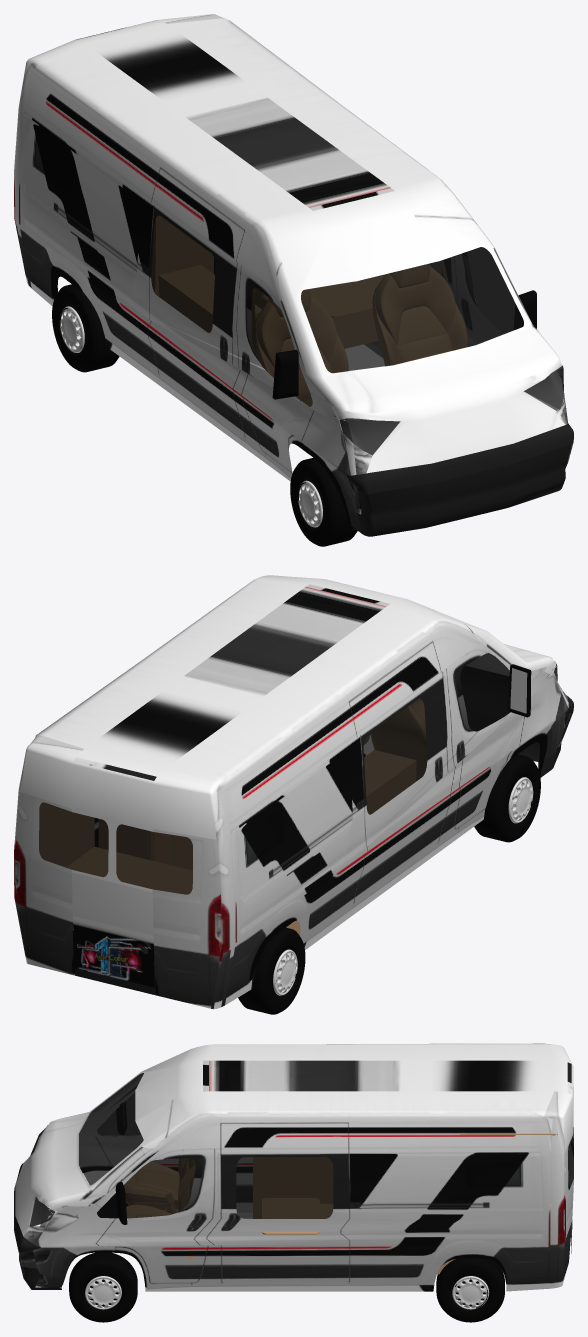
File: CampingCar.glb
The picture shows the model from 3 angles, top to bottom: view 1: azimuth 30°, elevation 25°; view 2: azimuth 150°, elevation 25°; view 3: azimuth 270°, elevation 25°; orthographic projection. The views are drawn at different scales.
Parts seen in each view (by area): view 1: TOLE, Pare brise, siege chauffeur.001, C.002, Cube.002, Cube.001, C.004, C.003, Cube.007, Cube.010, phares, Cube.006 (+2 smaller); view 2: TOLE, TOLE.001, Cube.008, C.002, Cube.002, Cube.001, decalque, C.004, Cube.009, siege chauffeur.001, Cube.007, Cube.003; view 3: TOLE, C.005, Pare brise, Cube.005, C.003, Cube.004, Cube.007, siege chauffeur.001, Cube.006, C.004, phares, Cube.003.
Part boxes in pixels (bbox=[...]): TOLE: bbox=[14, 14, 573, 536]; Pare brise: bbox=[301, 247, 523, 372]; siege chauffeur.001: bbox=[251, 260, 467, 406]; C.002: bbox=[151, 215, 215, 332]; Cube.002: bbox=[290, 457, 357, 546]; Cube.001: bbox=[52, 284, 119, 372]; C.004: bbox=[251, 287, 312, 406]; C.003: bbox=[467, 247, 523, 334]; Cube.007: bbox=[159, 265, 261, 332]; Cube.010: bbox=[151, 216, 214, 295]; phares: bbox=[339, 365, 563, 455]; Cube.006: bbox=[309, 275, 384, 317]; TOLE: bbox=[14, 575, 573, 1009]; TOLE.001: bbox=[39, 802, 192, 894]; Cube.008: bbox=[39, 802, 192, 894]; C.002: bbox=[363, 698, 427, 814]; Cube.002: bbox=[474, 754, 540, 842]; Cube.001: bbox=[238, 927, 305, 1014]; decalque: bbox=[73, 924, 154, 987]; C.004: bbox=[460, 653, 510, 731]; Cube.009: bbox=[99, 819, 192, 870]; siege chauffeur.001: bbox=[364, 699, 426, 780]; Cube.007: bbox=[364, 750, 416, 814]; Cube.003: bbox=[507, 664, 531, 717]; TOLE: bbox=[14, 1043, 573, 1291]; C.005: bbox=[236, 1157, 333, 1218]; Pare brise: bbox=[79, 1073, 143, 1185]; Cube.005: bbox=[69, 1252, 137, 1322]; C.003: bbox=[97, 1158, 195, 1218]; Cube.004: bbox=[436, 1258, 504, 1322]; Cube.007: bbox=[253, 1157, 332, 1218]; siege chauffeur.001: bbox=[124, 1158, 195, 1259]; Cube.006: bbox=[262, 1198, 319, 1234]; C.004: bbox=[97, 1093, 140, 1134]; phares: bbox=[30, 1128, 56, 1226]; Cube.003: bbox=[115, 1103, 127, 1224].
Size of the model in its own units: 2.71 by 2.68 by 6.52.
Materials: 7 (3 with a texture image).
